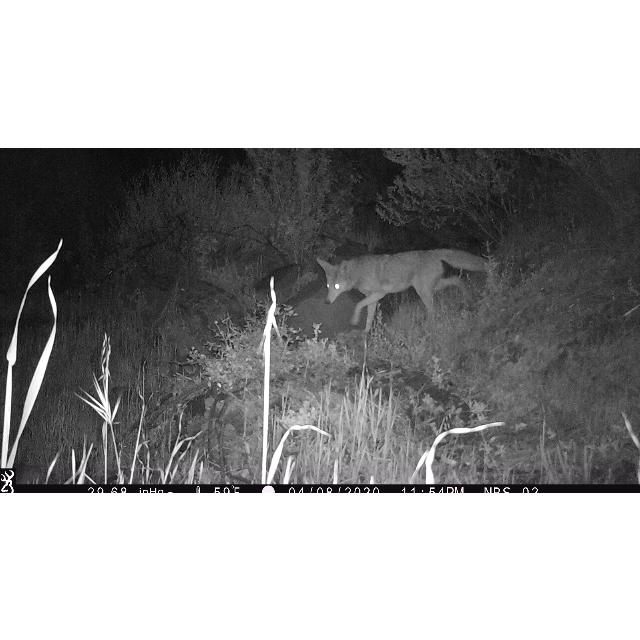animals: (314, 245, 494, 333)
